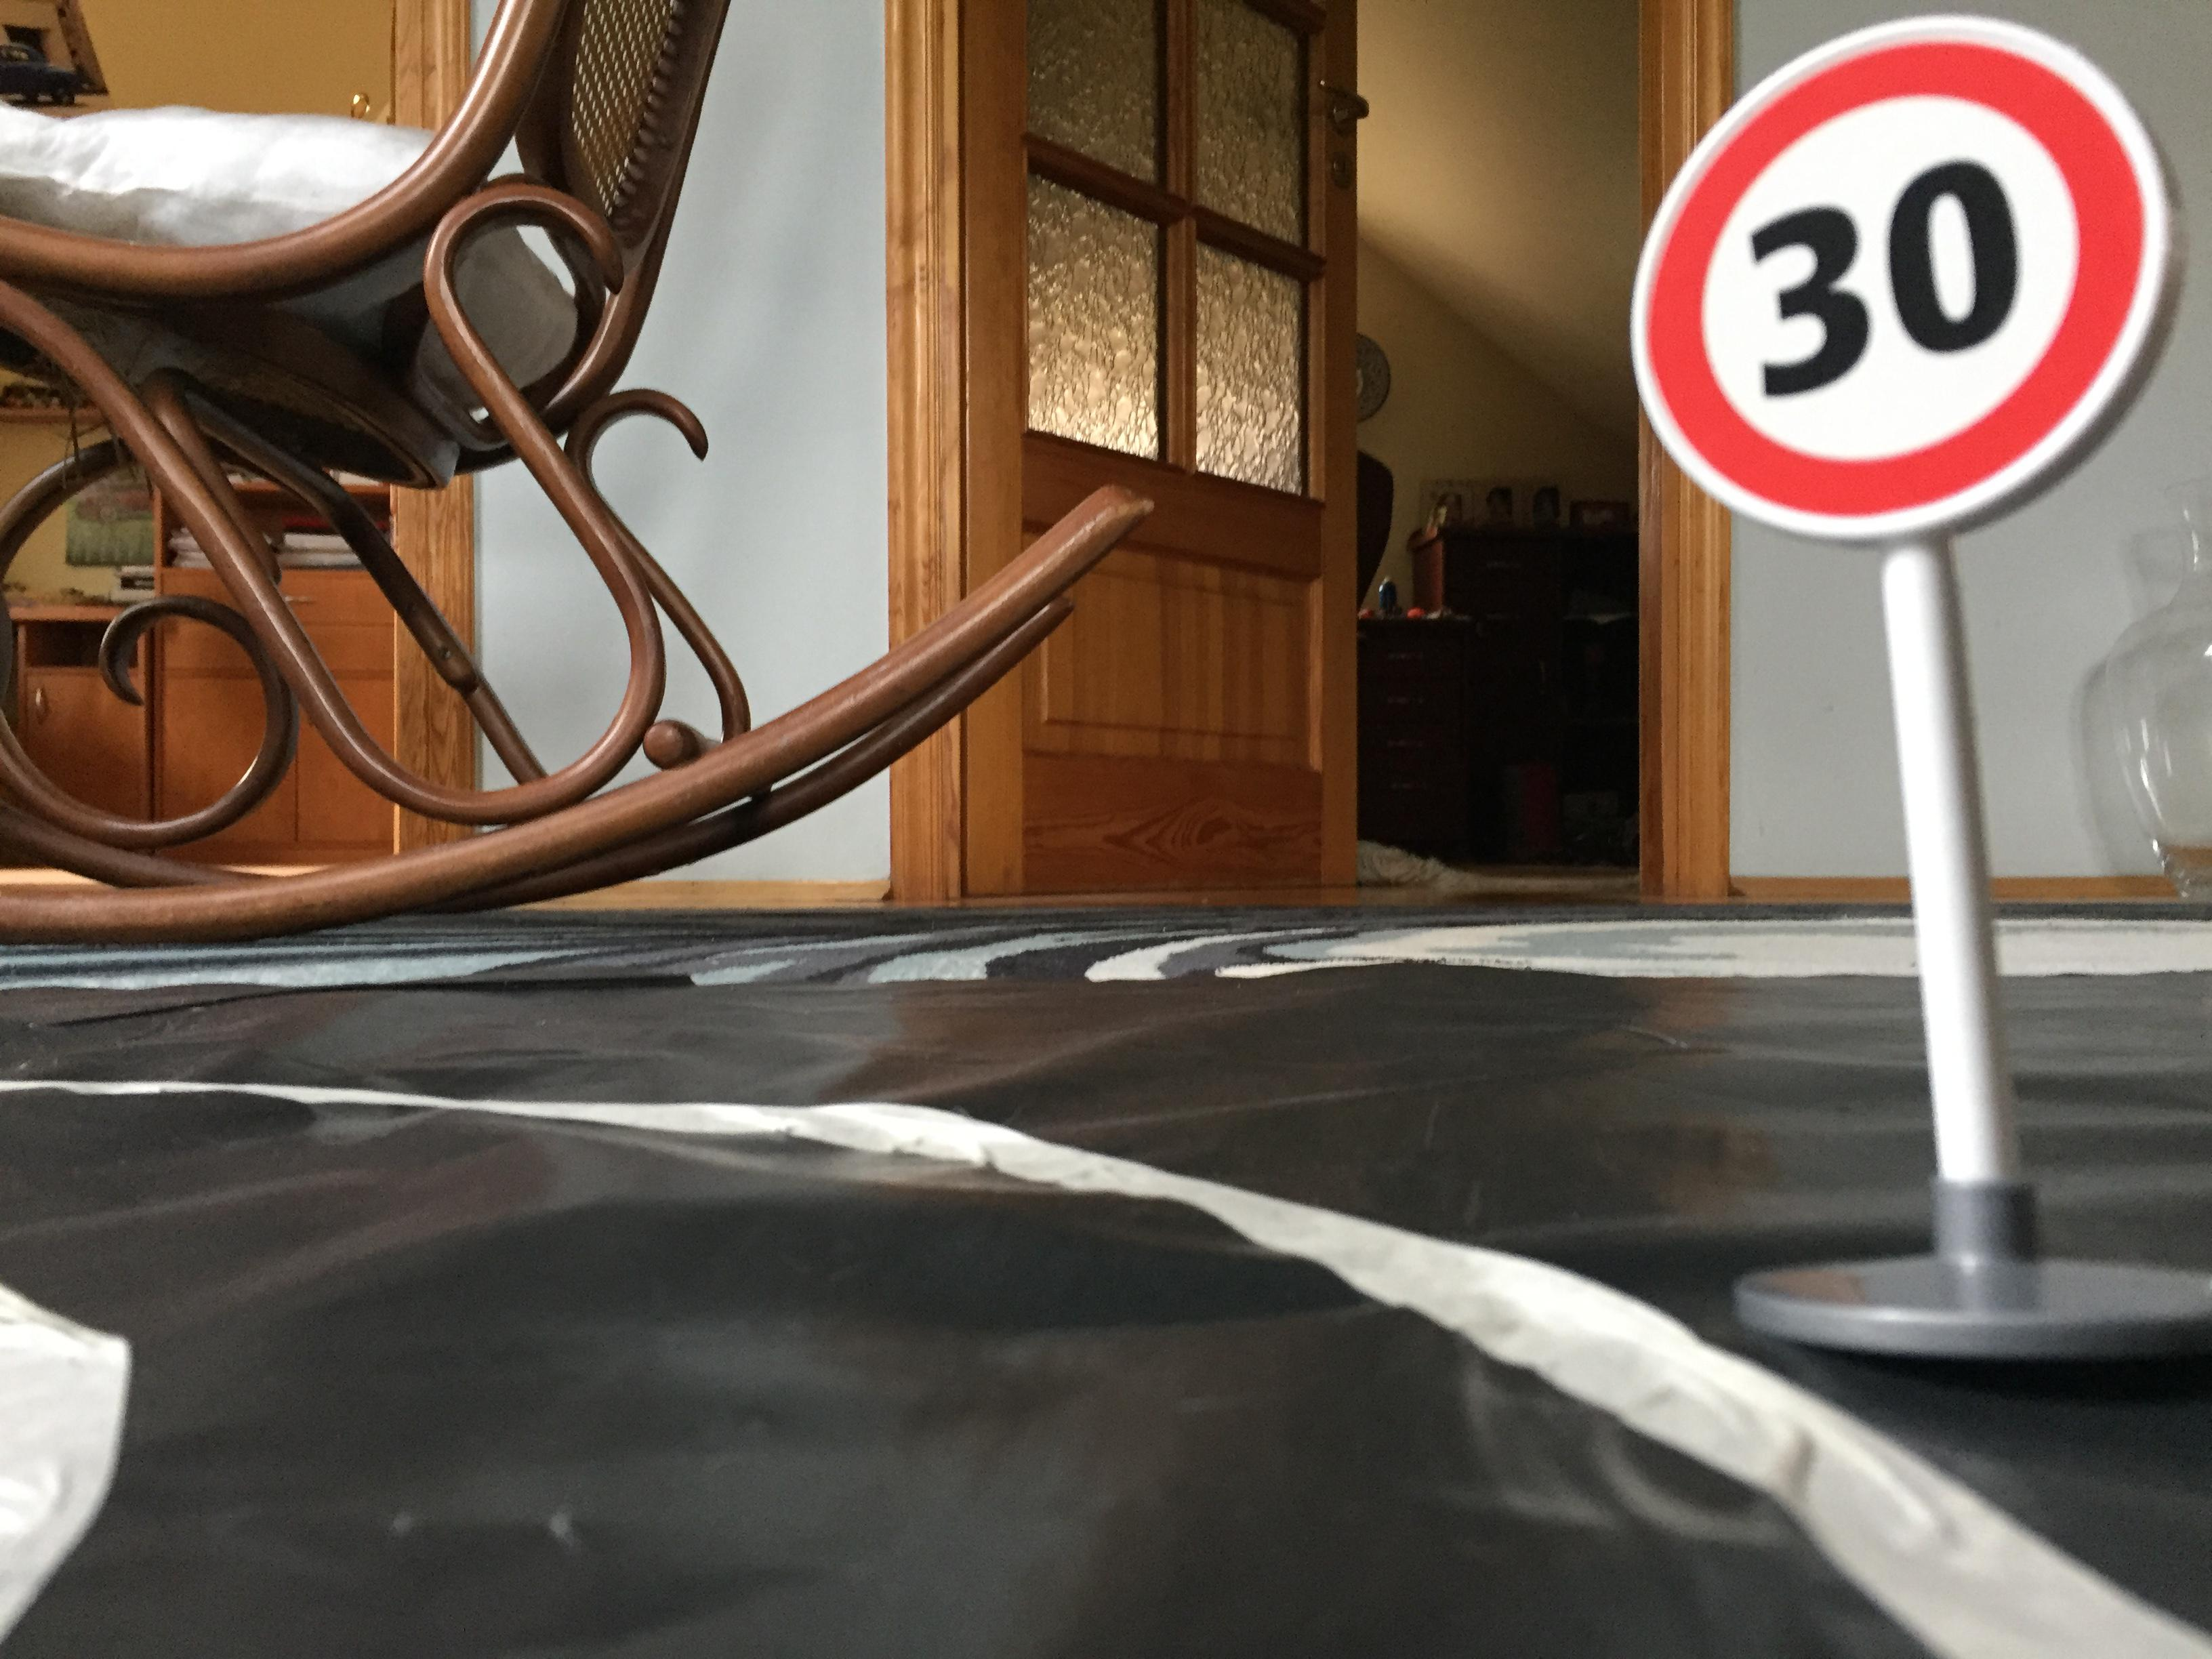speed: (1623, 9, 2205, 554)
